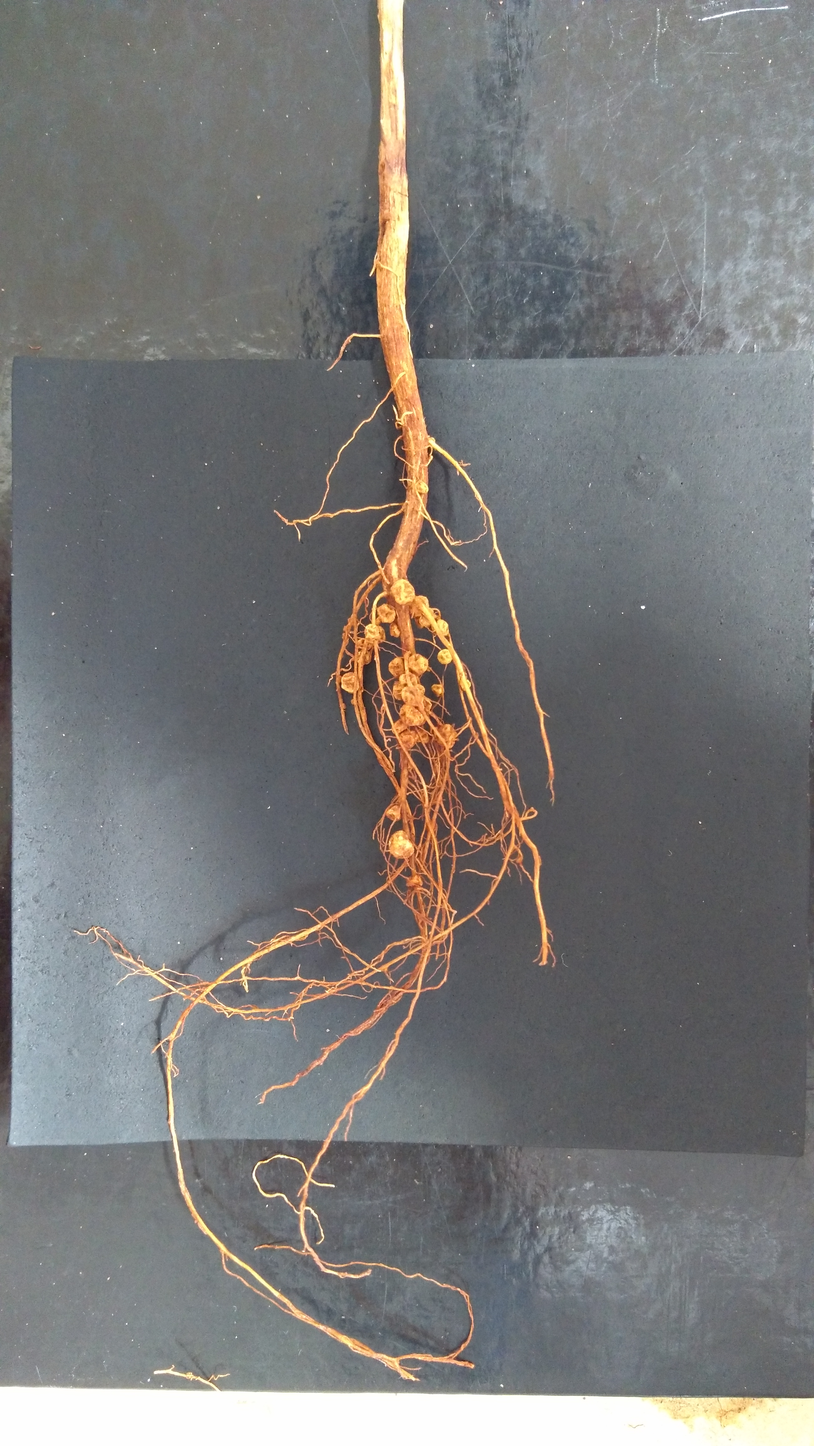nodule: (386, 829, 416, 860), (390, 577, 416, 608), (433, 722, 459, 750), (400, 682, 426, 707), (399, 704, 426, 727), (407, 652, 429, 678), (413, 607, 436, 630), (409, 595, 431, 619), (375, 602, 398, 624), (340, 671, 361, 693), (387, 656, 405, 679), (399, 730, 417, 750), (435, 647, 453, 666), (432, 618, 450, 637), (390, 718, 410, 735), (384, 804, 402, 822), (412, 477, 429, 496), (398, 672, 419, 687), (363, 623, 380, 641), (415, 727, 431, 746), (392, 680, 405, 701), (356, 649, 373, 665), (405, 874, 424, 888), (356, 637, 373, 651), (430, 683, 445, 698), (389, 622, 402, 639), (458, 678, 472, 692), (423, 698, 433, 713)
